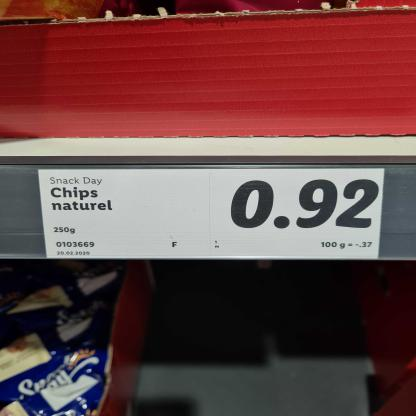prtg: (39, 170, 385, 261)
